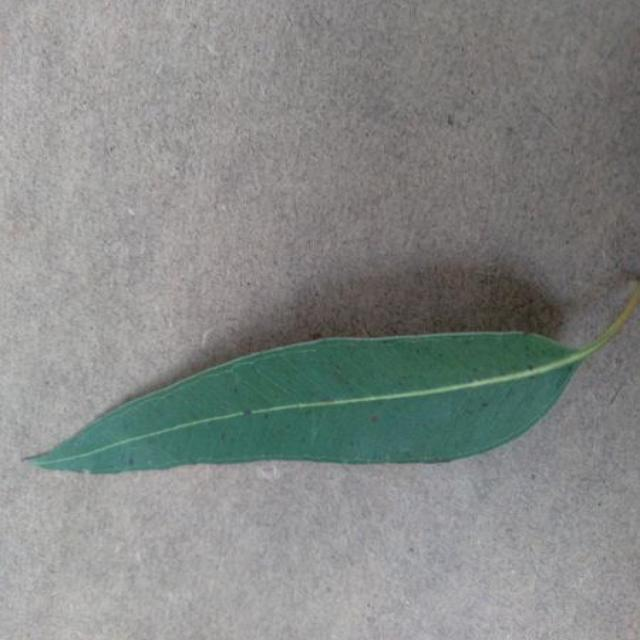eucalpytus: (30, 287, 638, 473)
